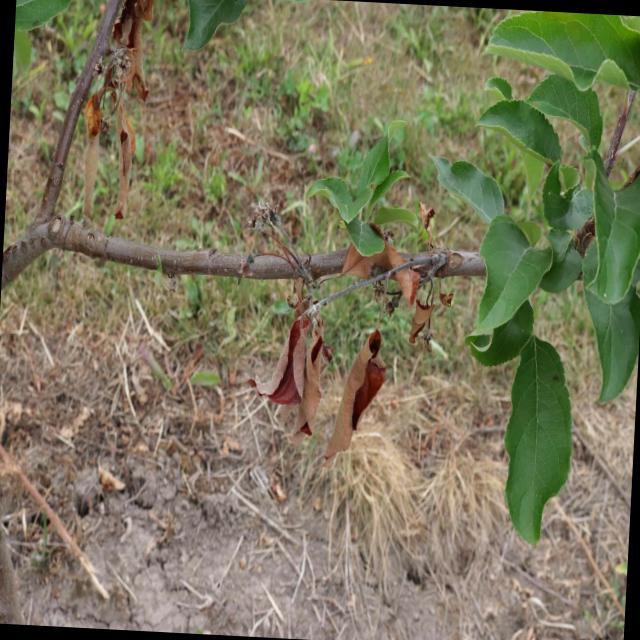-FireBlight-: (243, 222, 452, 452)
